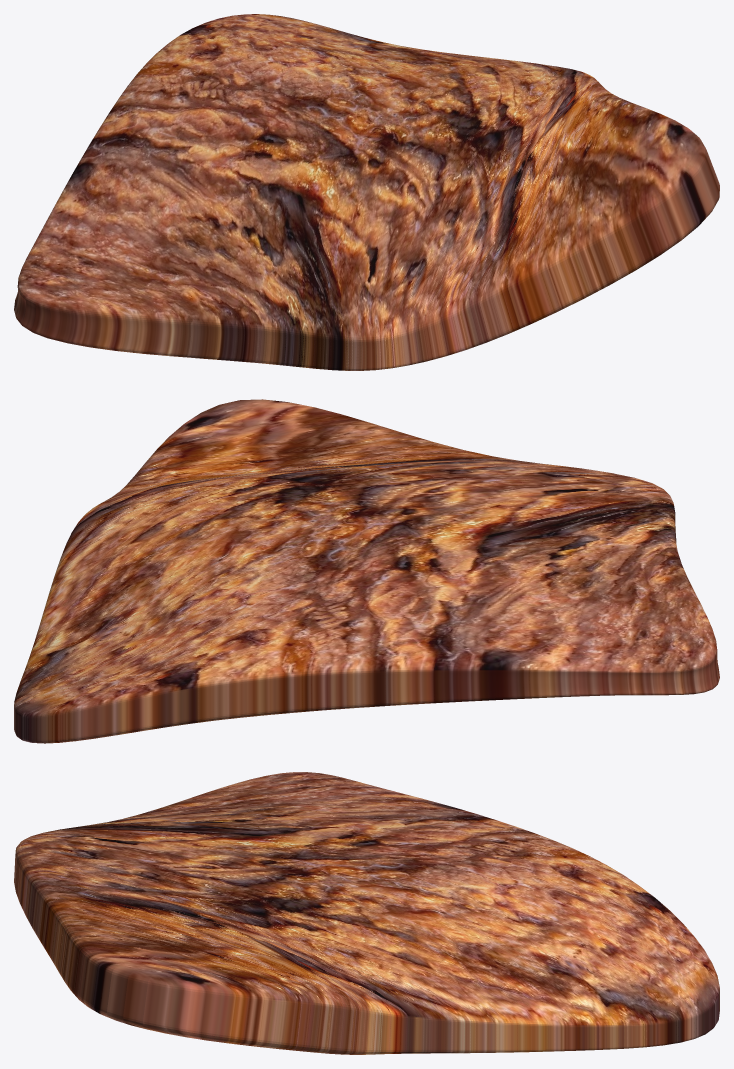
Rendered from kesilmis.fbx.
The picture shows the model from 3 angles, top to bottom: view 1: azimuth 30°, elevation 25°; view 2: azimuth 150°, elevation 25°; view 3: azimuth 270°, elevation 25°; orthographic projection. The views are drawn at different scales.
Parts seen in each view (by area): view 1: Plane.001; view 2: Plane.001; view 3: Plane.001.
Part boxes in pixels (left/top/right/bottom): Plane.001: left=14, top=14, right=719, bottom=370; Plane.001: left=14, top=399, right=719, bottom=743; Plane.001: left=14, top=772, right=719, bottom=1054.
Bounding box in the file's own units: 54.77 × 9.33 × 58.42.
